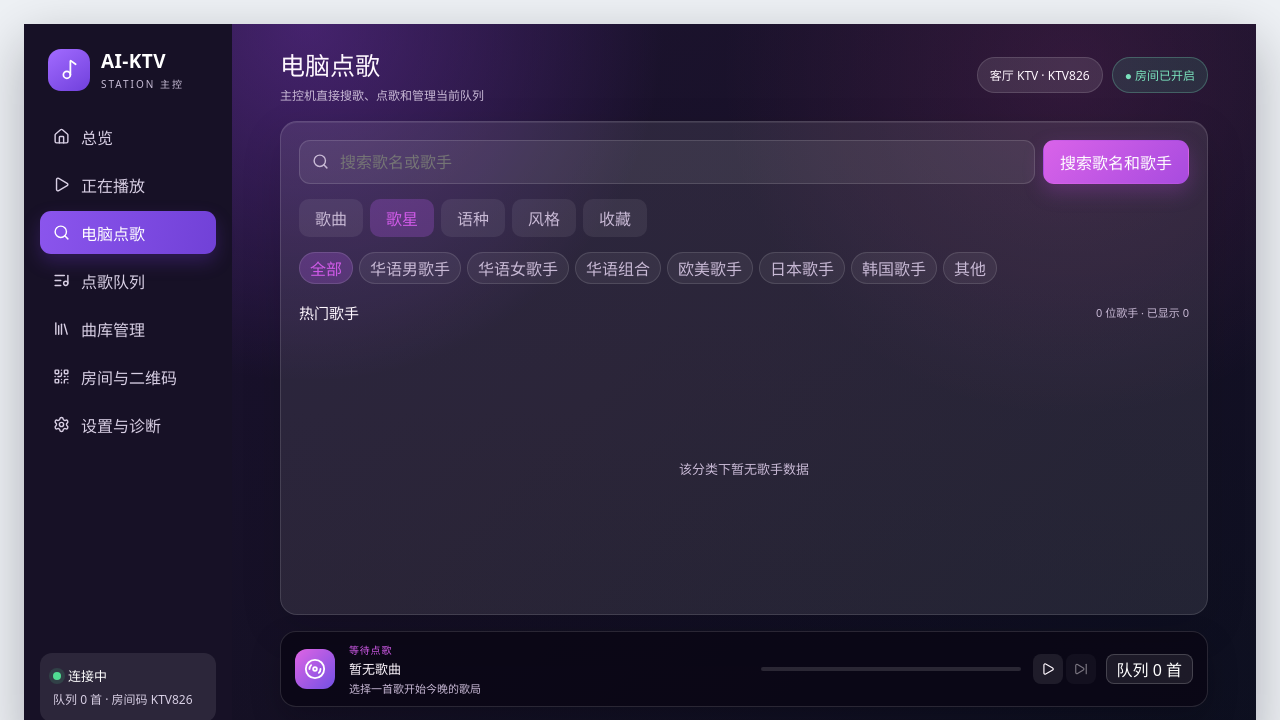
Test: mobile application shell › shows the recorded playback failure reason on the desktop player page
Expected: the heading "电脑点歌" is shown, x1=280 y1=48 x2=380 y2=82
Click the button "正在播放": (128, 184) x1=40 y1=163 x2=216 y2=206
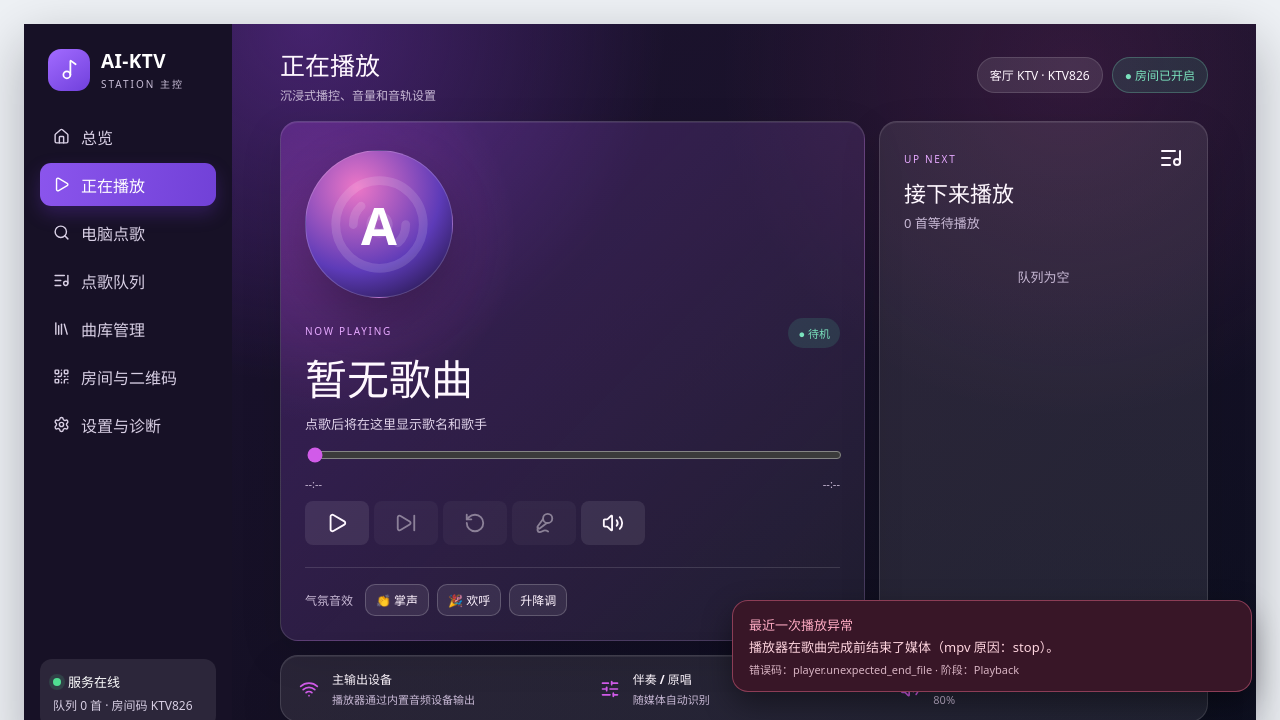
Expected: the message shows "mpv 原因：stop", x1=749 y1=638 x2=1059 y2=656
Expected: the message shows "错误码：player.unexpected_end_file", x1=732 y1=600 x2=1252 y2=692
